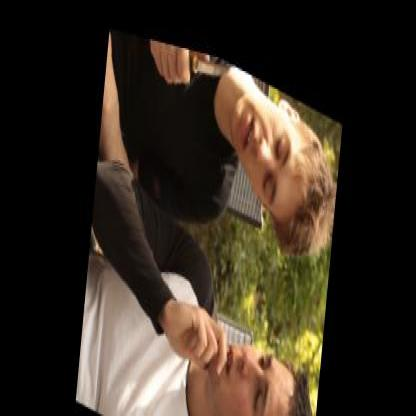knife: (157, 33, 242, 115)
